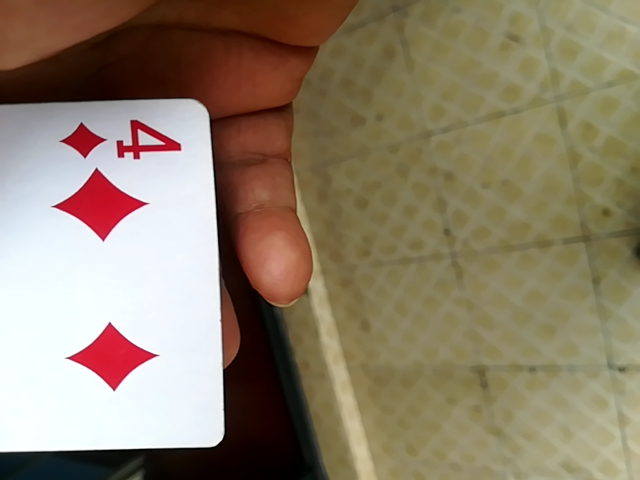fk 4: (0, 93, 235, 456)
